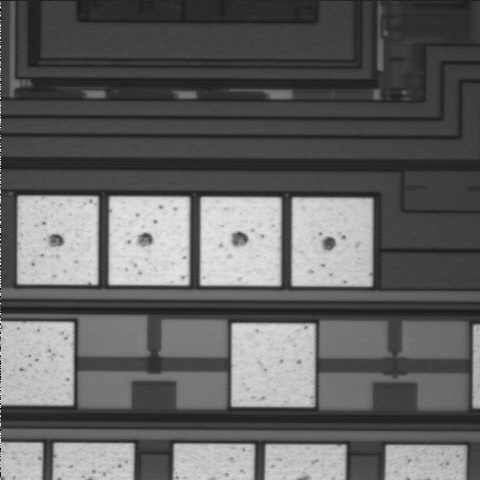pad: (18, 196, 98, 285), (201, 197, 281, 286), (109, 197, 189, 285), (292, 198, 372, 286), (232, 324, 315, 407)
